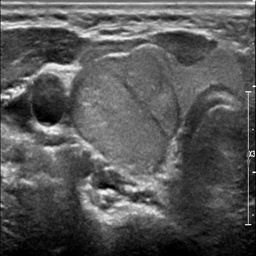mass: (69, 54, 180, 172)
